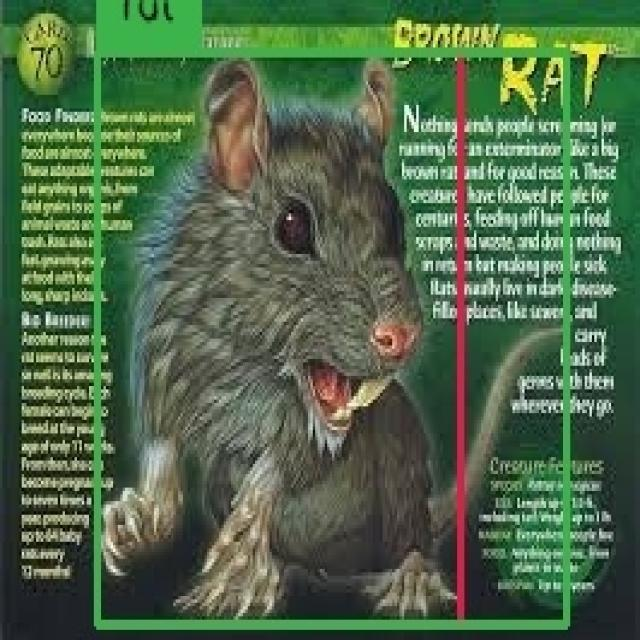rat: (97, 51, 566, 626), (97, 52, 461, 625)
